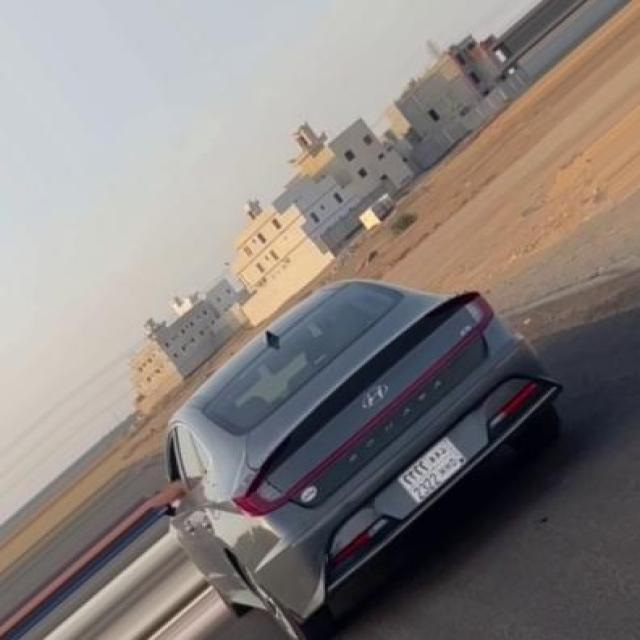Car-plate: (383, 433, 479, 508)
